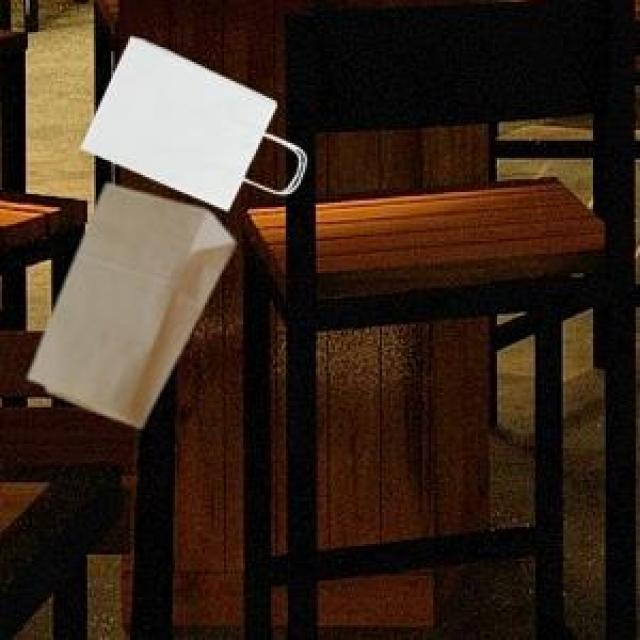Paper -Biodegradable-: (22, 184, 237, 434)
